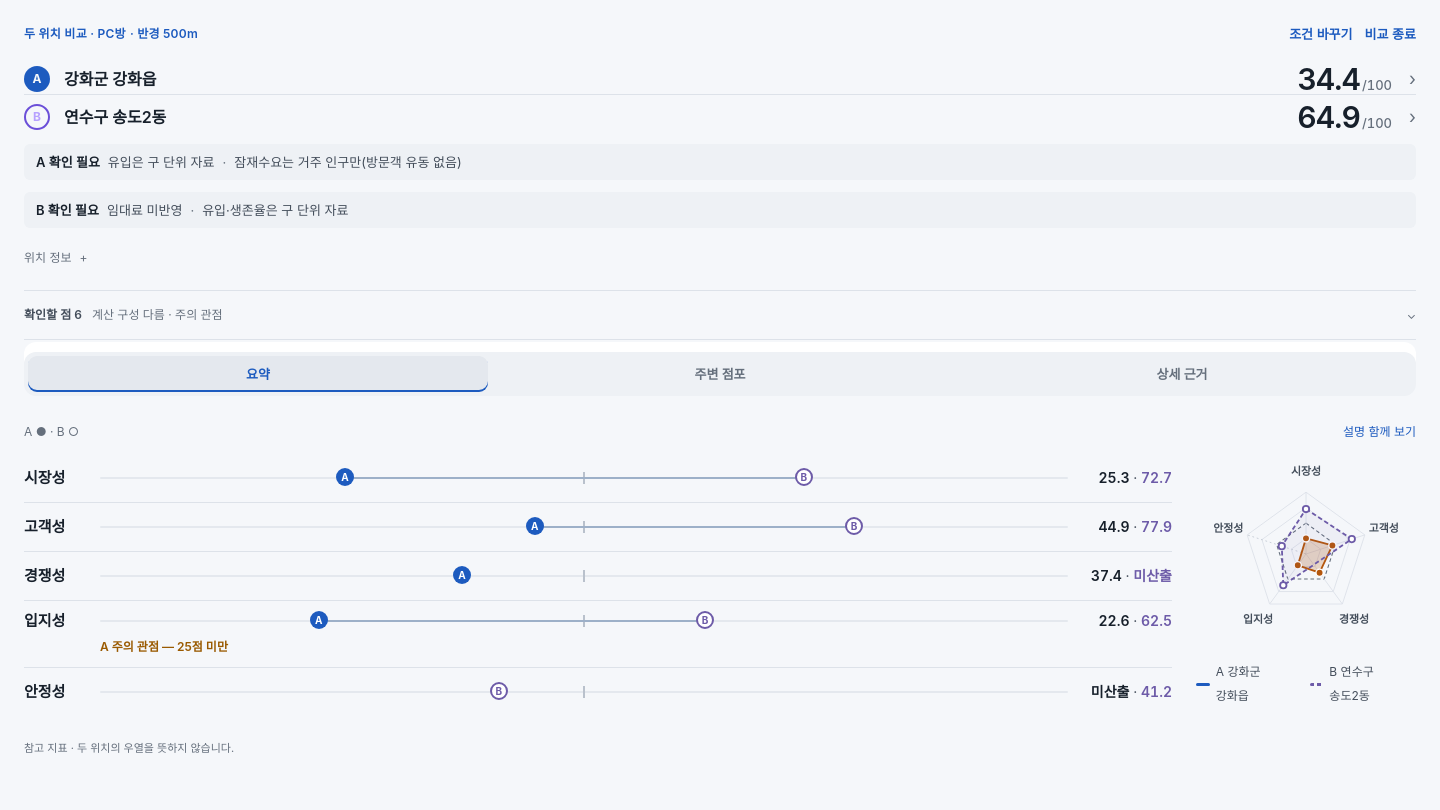
CompareResult — 점수 비교 표 › 두 위치 모두 4개 관점이어도 구성이 다르면 †를 붙인다 (안정성 미산출 vs 경쟁성 미산출)
Click the tab "상세 근거".
click(1182, 374)  # box [952,356,1412,392]
(page scrolled)
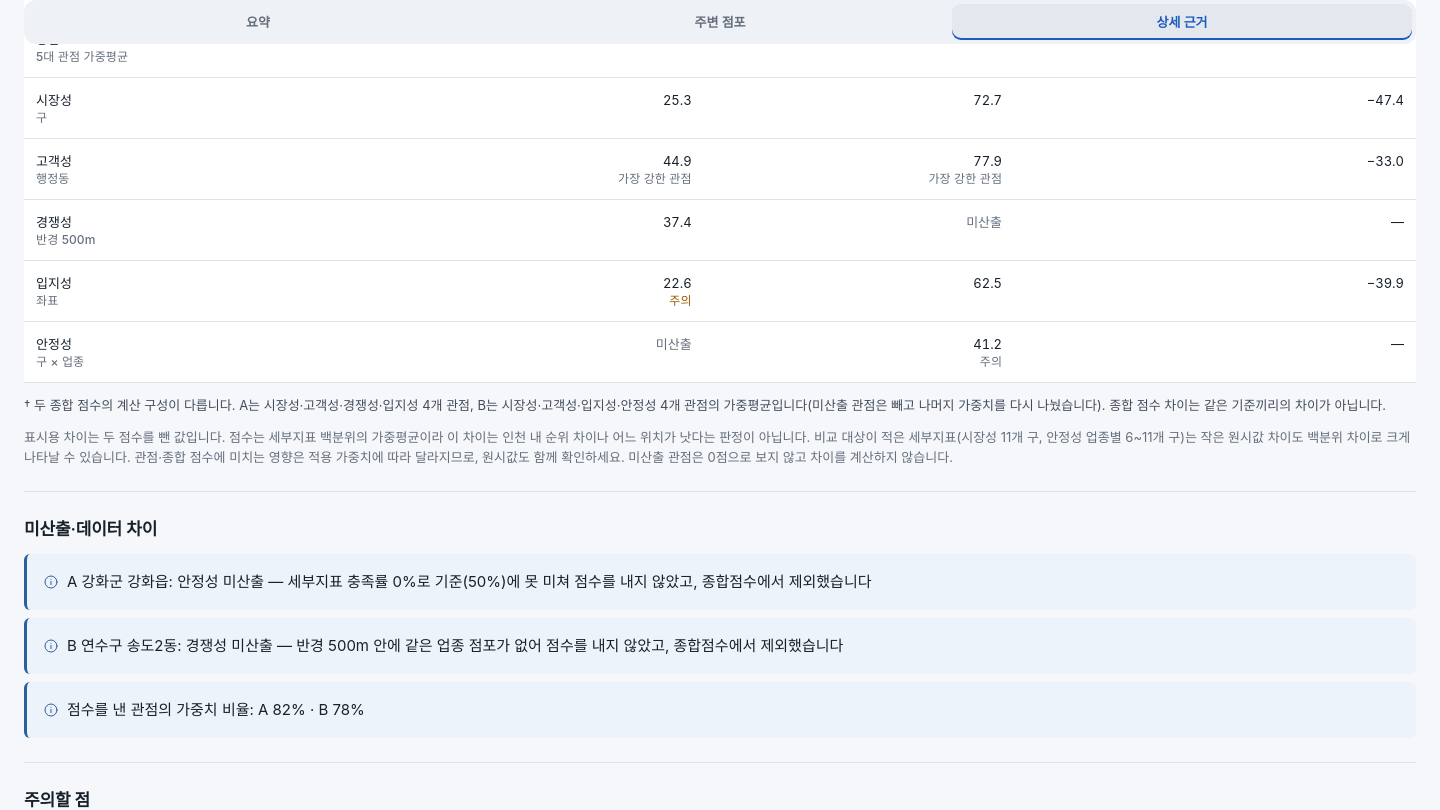
Expected: the cell "−30.5†" is shown, [1014,17,1416,78]
Expected: the text "† " shows "A는 시장성·고객성·경쟁성·입지성 4개 관점, B는 시장성·고객성·입지성·안정성 4개 관점", [34,397,1386,413]
